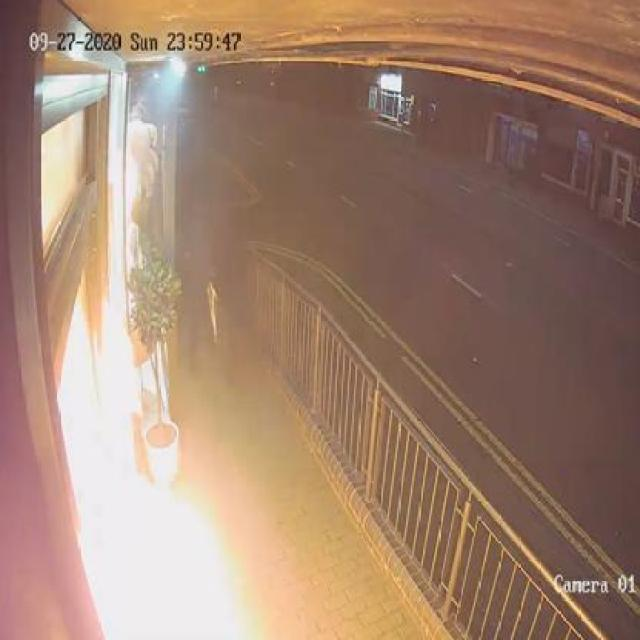Fire: (68, 272, 152, 610), (152, 473, 215, 630)
